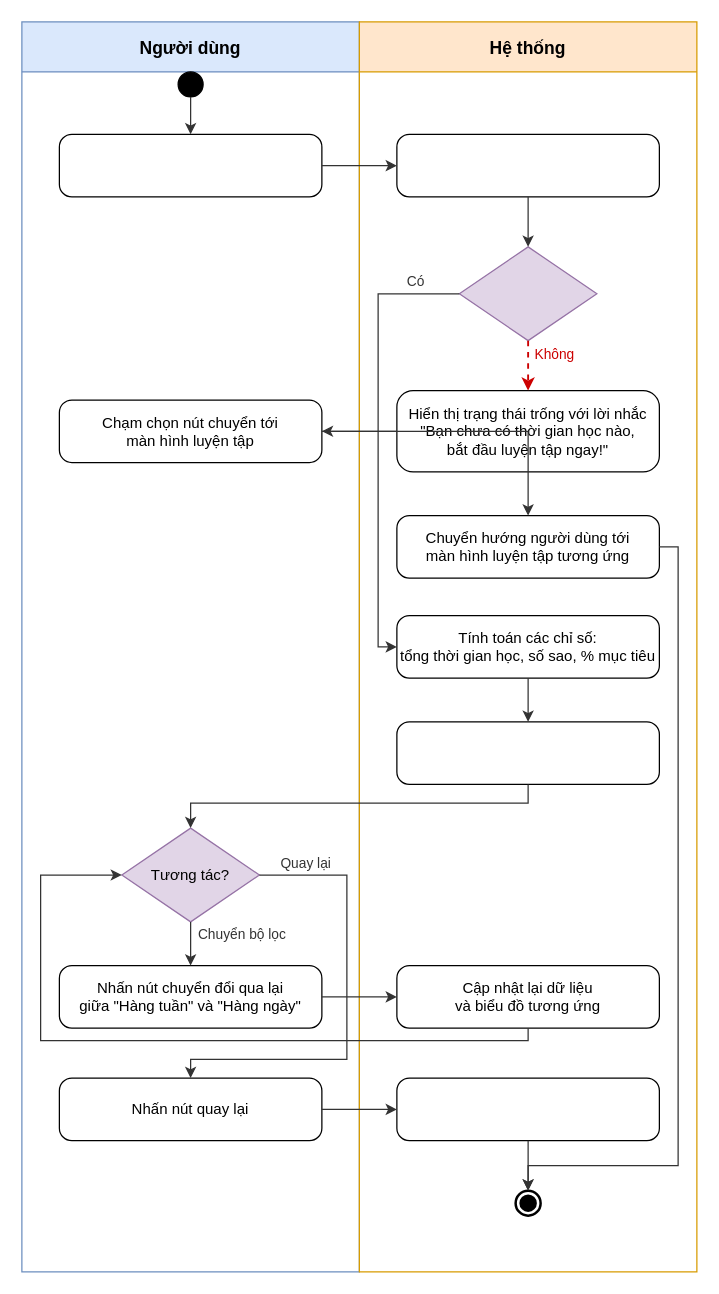
Image size: 719x1294. Some labels were removed from this diagram. The box of each missing label's shape, as (x1, y1, x2, y2) in pixels:
Chạm chọn mục "Thành tích": (58, 133, 322, 197)
Có dữ liệu?: (458, 246, 597, 341)
Hiển thị giao diện thành tích với các thẻ chỉ số và biểu đồ cột: (396, 721, 659, 784)
Yêu cầu dữ liệu tiến độ học tập từ CSDL cục bộ: (396, 133, 659, 197)
Đóng giao diện thống kê về màn hình trước đó: (396, 1077, 659, 1141)
